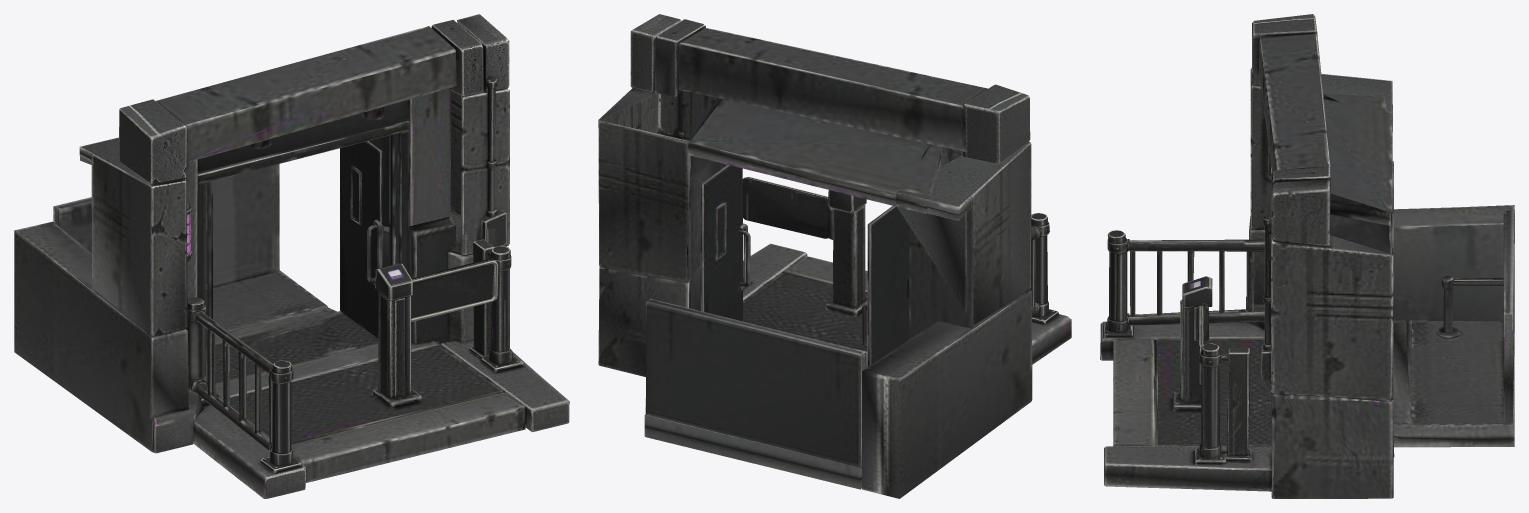
File: entrance_opt.glb
3 views of the same model, side by side, from view 1: azimuth 30°, elevation 25°; view 2: azimuth 150°, elevation 25°; view 3: azimuth 270°, elevation 25° (orthographic). The views are drawn at different scales.
Bounding box in the file's own units: 0.959 × 0.7901 × 0.9556.
1 material, 1 textured.
